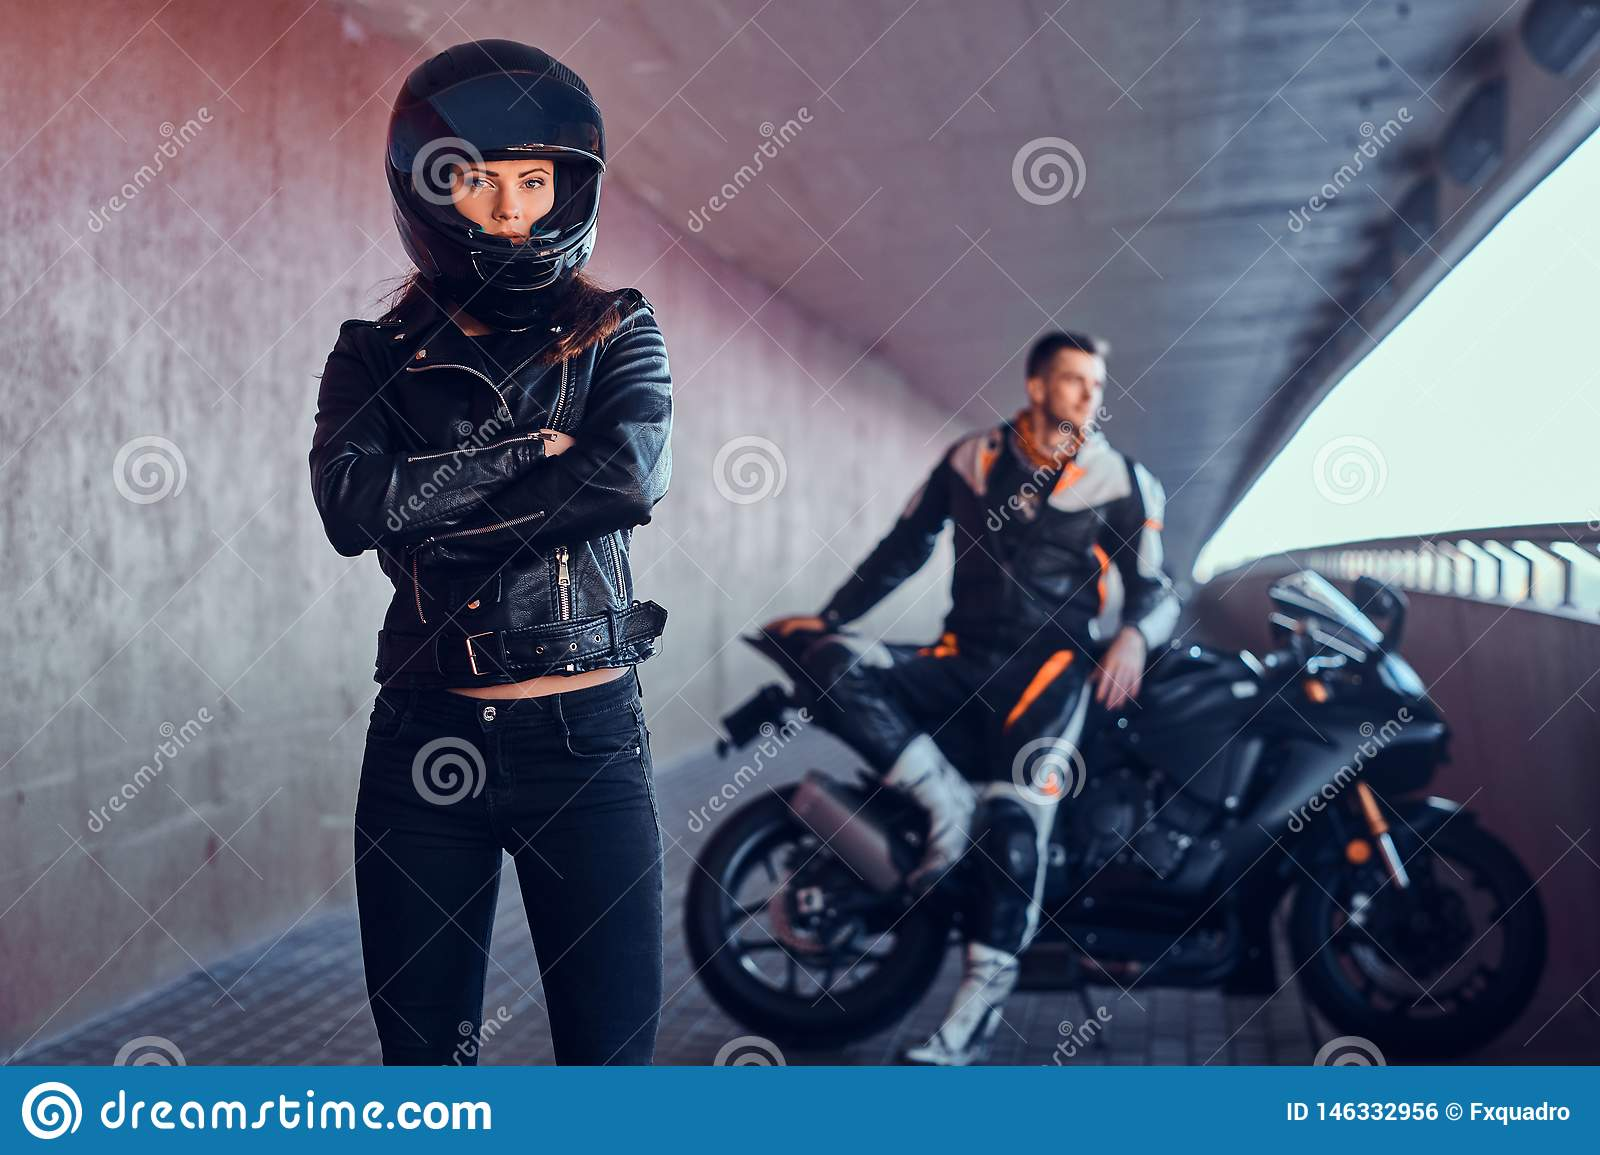helmet: (376, 40, 617, 310)
